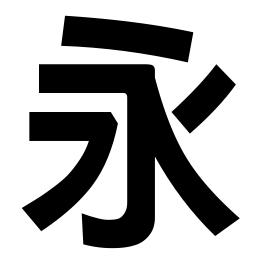D: (59, 13, 195, 56)
HSZ: (118, 57, 159, 104)
Hs: (33, 59, 91, 96)
Ne: (200, 203, 242, 238)
PNc: (144, 107, 195, 147)
PZe: (19, 195, 66, 232)
Ps: (205, 63, 241, 105)
SG: (79, 208, 159, 250)
Sm: (124, 165, 157, 194)
TPZ: (75, 107, 119, 152)
Ts: (26, 110, 57, 145)
